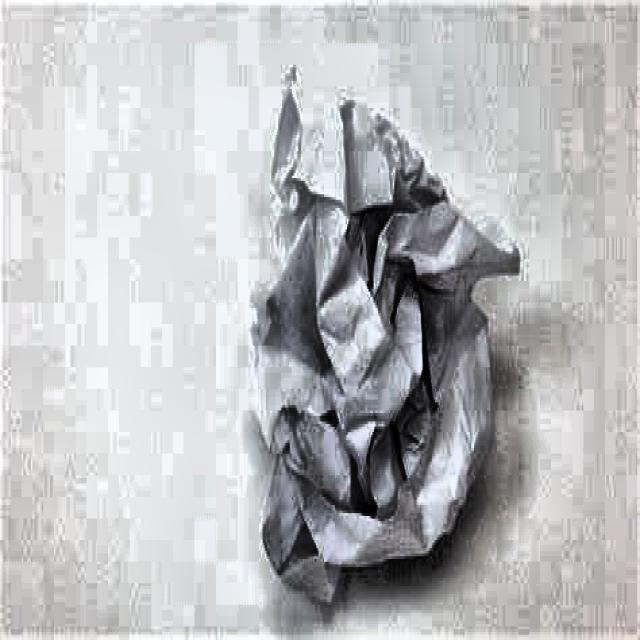Paper: (238, 52, 520, 605)
